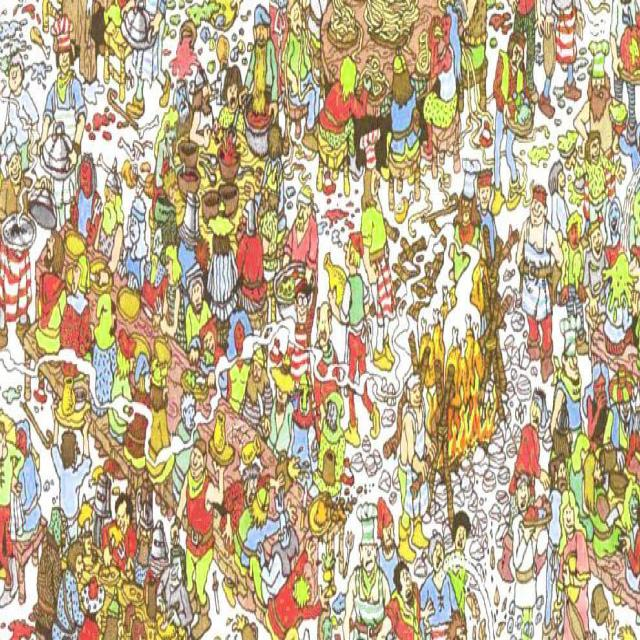waldo: (292, 267, 311, 325)
